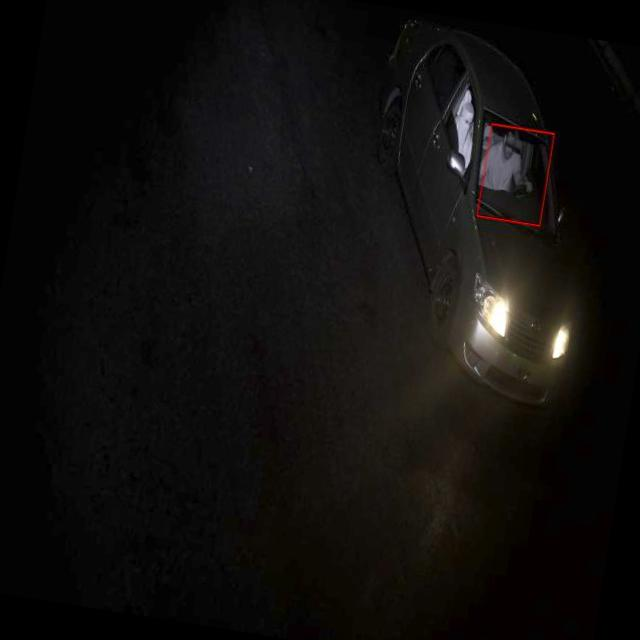person_without_seatbelt: (478, 125, 550, 208)
